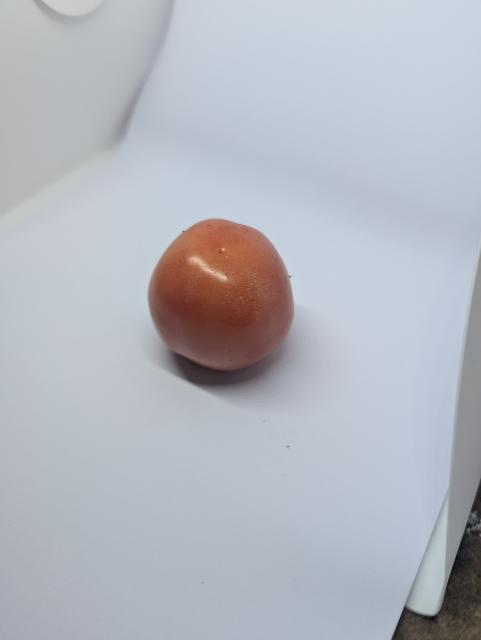red: (141, 214, 310, 387)
